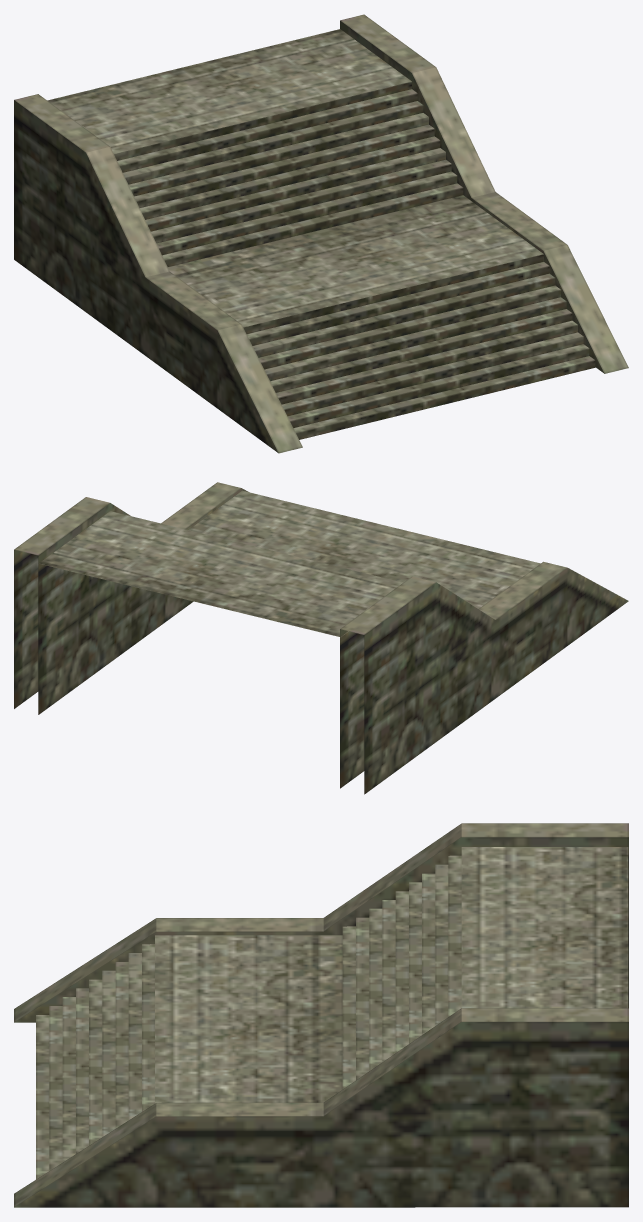
The model's file is ob-12-03stair.fbx.
3 views of the same model, one above another, from view 1: azimuth 30°, elevation 25°; view 2: azimuth 150°, elevation 25°; view 3: azimuth 270°, elevation 25° (orthographic). The views are drawn at different scales.
Parts seen in each view (by area): view 1: Mesh01; view 2: Mesh01; view 3: Mesh01.
Part boxes in pixels (bbox=[...]): Mesh01: bbox=[14, 14, 628, 453]; Mesh01: bbox=[14, 482, 628, 794]; Mesh01: bbox=[14, 823, 628, 1207].
Bounding box in the file's own units: 14.03 × 6.14 × 18.36.
